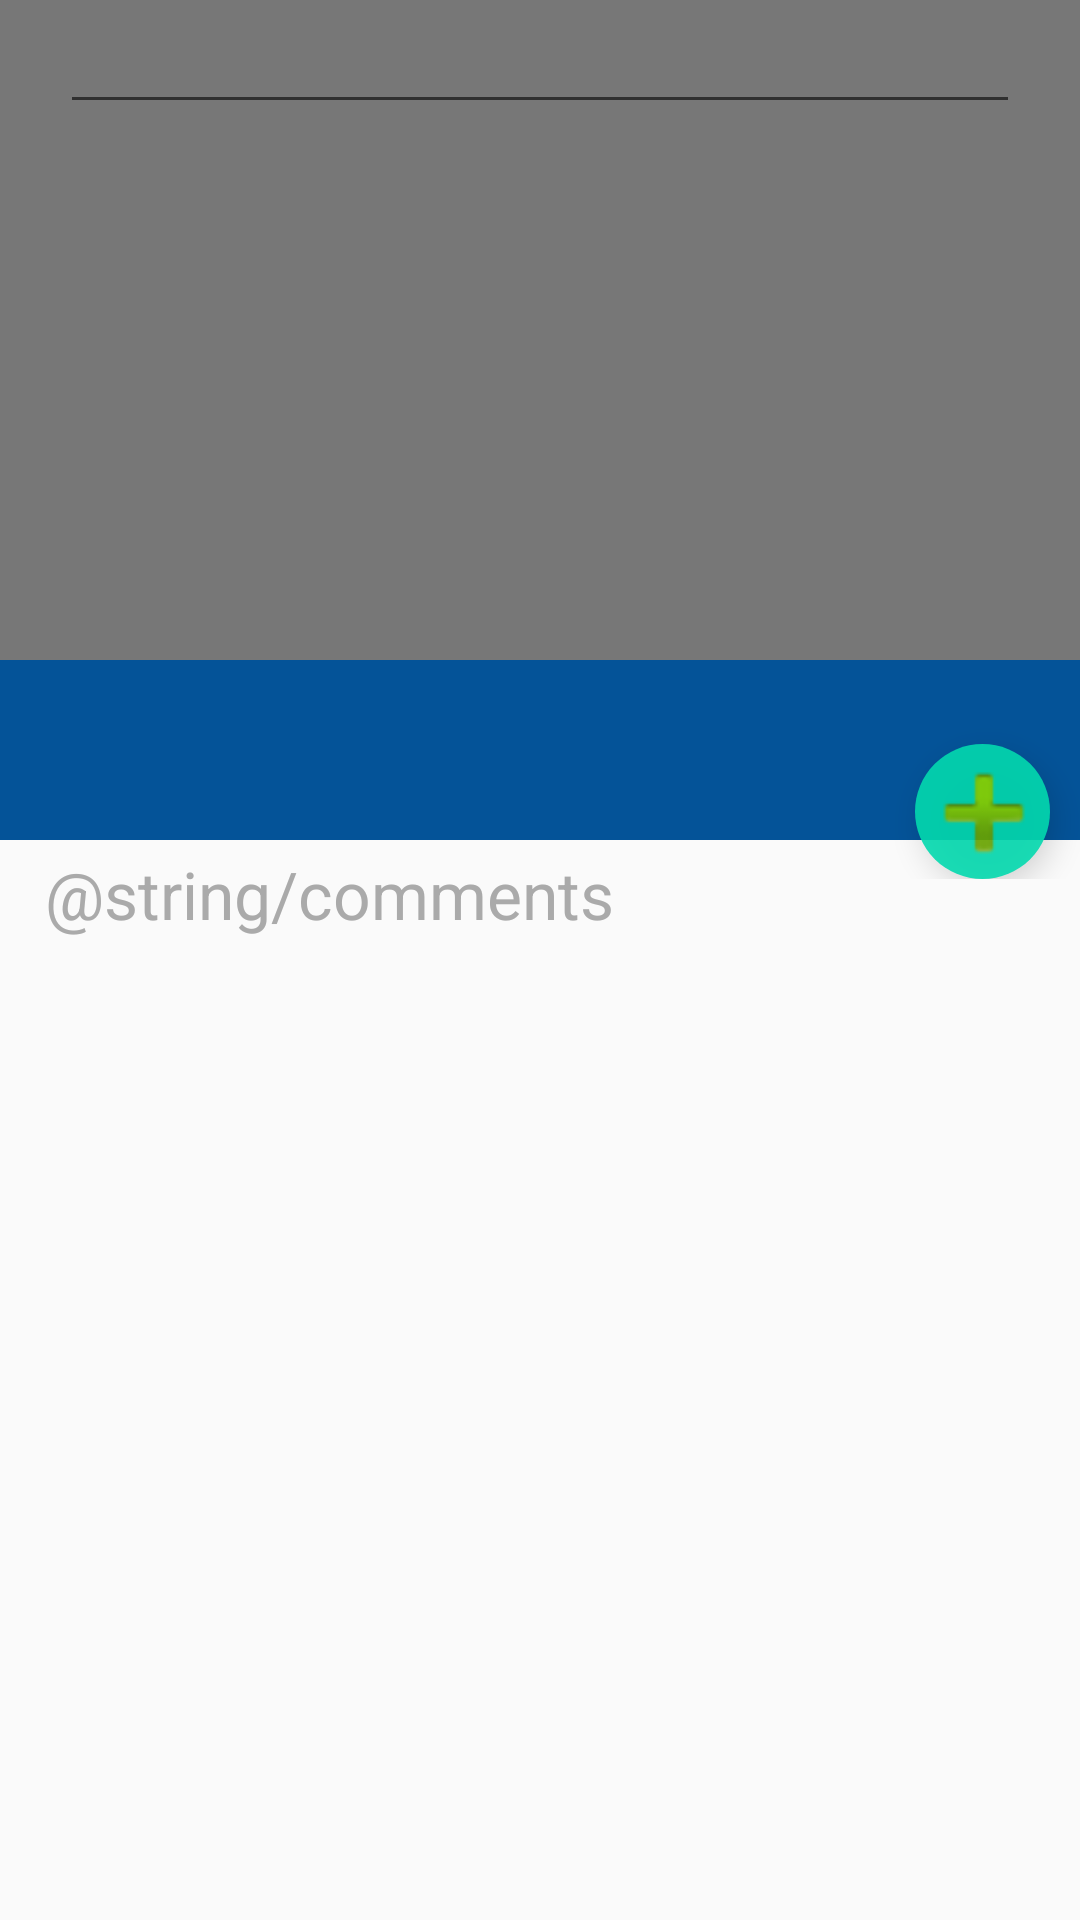

Icons on this 1080 × 1920 Android screen, each with its box as {"left": x1, "top": y1, "right": x2, "bottom": y2}:
add: {"left": 915, "top": 744, "right": 1050, "bottom": 879}
